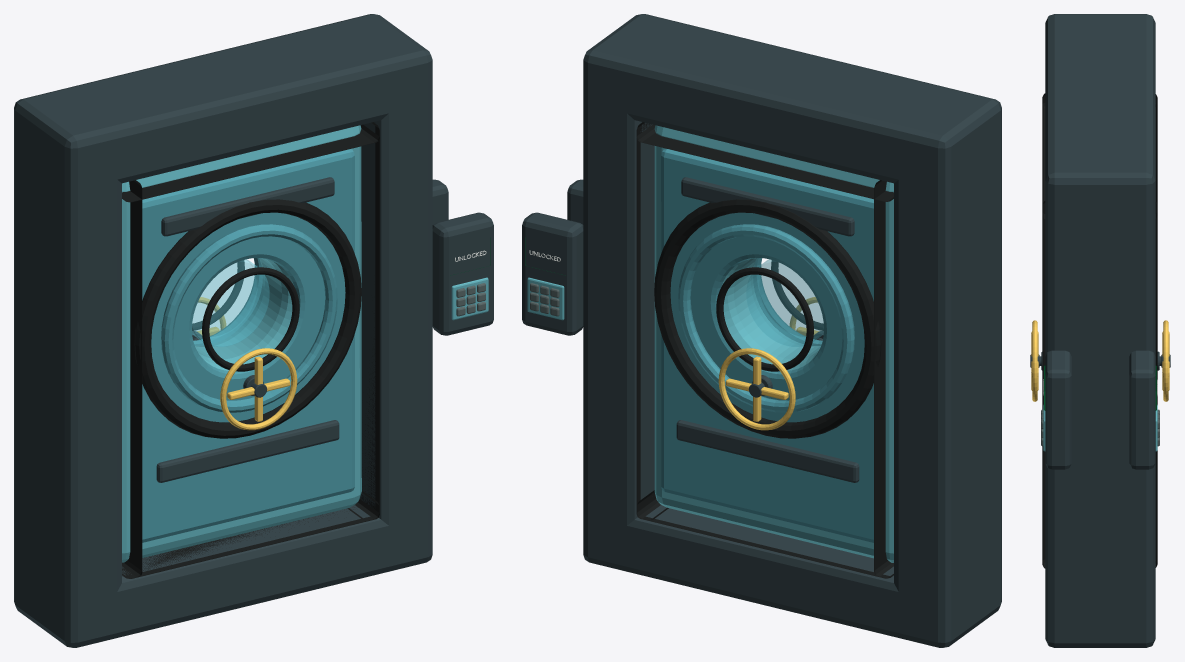
The model's file is Porte de sas etanche.glb.
3 views of the same model, side by side, from view 1: azimuth 30°, elevation 25°; view 2: azimuth 150°, elevation 25°; view 3: azimuth 270°, elevation 25° (orthographic). The views are drawn at different scales.
Visible parts, largest first — view 1: AIRLOCK_Frame_Left, AIRLOCK_Front_Pressure_Plate, AIRLOCK_Frame_Top, AIRLOCK_Frame_Right, AIRLOCK_Frame_Bottom_Threshold, AIRLOCK_Moving_Armored_Leaf_1p5x2m, AIRLOCK_Front_Outer_Rubber_Pressure_Seal, AIRLOCK_Front_Inset_Metal_Hatch_Ring, AIRLOCK_Front_Electronic_Control_Block, AIRLOCK_Inner_Rubber_Seal_Left, AIRLOCK_Transparent_Center_Glass_Disk, AIRLOCK_Front_Lower_Pressure_Rib (+9 smaller); view 2: AIRLOCK_Frame_Left, AIRLOCK_Back_Pressure_Plate, AIRLOCK_Frame_Top, AIRLOCK_Frame_Right, AIRLOCK_Frame_Bottom_Threshold, AIRLOCK_Moving_Armored_Leaf_1p5x2m, AIRLOCK_Back_Outer_Rubber_Pressure_Seal, AIRLOCK_Back_Inset_Metal_Hatch_Ring, AIRLOCK_Back_Electronic_Control_Block, AIRLOCK_Inner_Rubber_Seal_Left, AIRLOCK_Transparent_Center_Glass_Disk, AIRLOCK_Back_Lower_Pressure_Rib (+9 smaller); view 3: AIRLOCK_Frame_Right, AIRLOCK_Frame_Top, AIRLOCK_Frame_Bottom_Threshold, AIRLOCK_Back_Electronic_Control_Block, AIRLOCK_Front_Electronic_Control_Block, AIRLOCK_Inner_Rubber_Seal_Right, AIRLOCK_Frame_Left, AIRLOCK_Inner_Rubber_Seal_Top, AIRLOCK_Back_Manual_Wheel_Ring, AIRLOCK_Front_Manual_Wheel_Ring.
Part boxes in pixels (x1,y1,x2,y2): AIRLOCK_Frame_Left: (14, 90, 121, 647); AIRLOCK_Front_Pressure_Plate: (142, 149, 354, 542); AIRLOCK_Frame_Top: (14, 14, 432, 185); AIRLOCK_Frame_Right: (334, 14, 432, 571); AIRLOCK_Frame_Bottom_Threshold: (14, 505, 432, 647); AIRLOCK_Moving_Armored_Leaf_1p5x2m: (122, 125, 361, 562); AIRLOCK_Front_Outer_Rubber_Pressure_Seal: (134, 199, 361, 438); AIRLOCK_Front_Inset_Metal_Hatch_Ring: (161, 224, 337, 412); AIRLOCK_Front_Electronic_Control_Block: (432, 212, 493, 335); AIRLOCK_Inner_Rubber_Seal_Left: (122, 180, 142, 578); AIRLOCK_Transparent_Center_Glass_Disk: (192, 259, 269, 346); AIRLOCK_Front_Lower_Pressure_Rib: (156, 420, 339, 482); AIRLOCK_Frame_Left: (894, 90, 1001, 644); AIRLOCK_Back_Pressure_Plate: (661, 149, 873, 542); AIRLOCK_Frame_Top: (583, 14, 1000, 188); AIRLOCK_Frame_Right: (583, 14, 681, 566); AIRLOCK_Frame_Bottom_Threshold: (583, 505, 1000, 647); AIRLOCK_Moving_Armored_Leaf_1p5x2m: (654, 125, 893, 562); AIRLOCK_Back_Outer_Rubber_Pressure_Seal: (654, 199, 881, 438); AIRLOCK_Back_Inset_Metal_Hatch_Ring: (678, 224, 854, 412); AIRLOCK_Back_Electronic_Control_Block: (522, 212, 583, 335); AIRLOCK_Inner_Rubber_Seal_Left: (874, 180, 893, 578); AIRLOCK_Transparent_Center_Glass_Disk: (746, 259, 823, 346); AIRLOCK_Back_Lower_Pressure_Rib: (676, 420, 859, 482); AIRLOCK_Frame_Right: (1045, 155, 1155, 647); AIRLOCK_Frame_Top: (1045, 14, 1155, 222); AIRLOCK_Frame_Bottom_Threshold: (1045, 601, 1155, 646); AIRLOCK_Back_Electronic_Control_Block: (1129, 350, 1155, 469); AIRLOCK_Front_Electronic_Control_Block: (1045, 350, 1071, 469); AIRLOCK_Inner_Rubber_Seal_Right: (1042, 201, 1157, 568); AIRLOCK_Frame_Left: (1045, 14, 1155, 32); AIRLOCK_Inner_Rubber_Seal_Top: (1042, 95, 1157, 219); AIRLOCK_Back_Manual_Wheel_Ring: (1163, 320, 1168, 401); AIRLOCK_Front_Manual_Wheel_Ring: (1032, 320, 1037, 401).
Size of the model in its own units: 1.74 by 2 by 0.535.
